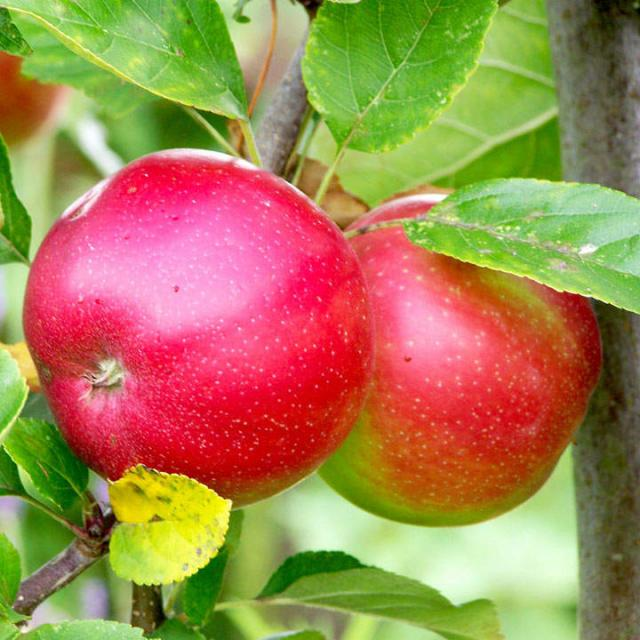Apple: (0, 139, 368, 513), (313, 182, 612, 526)
